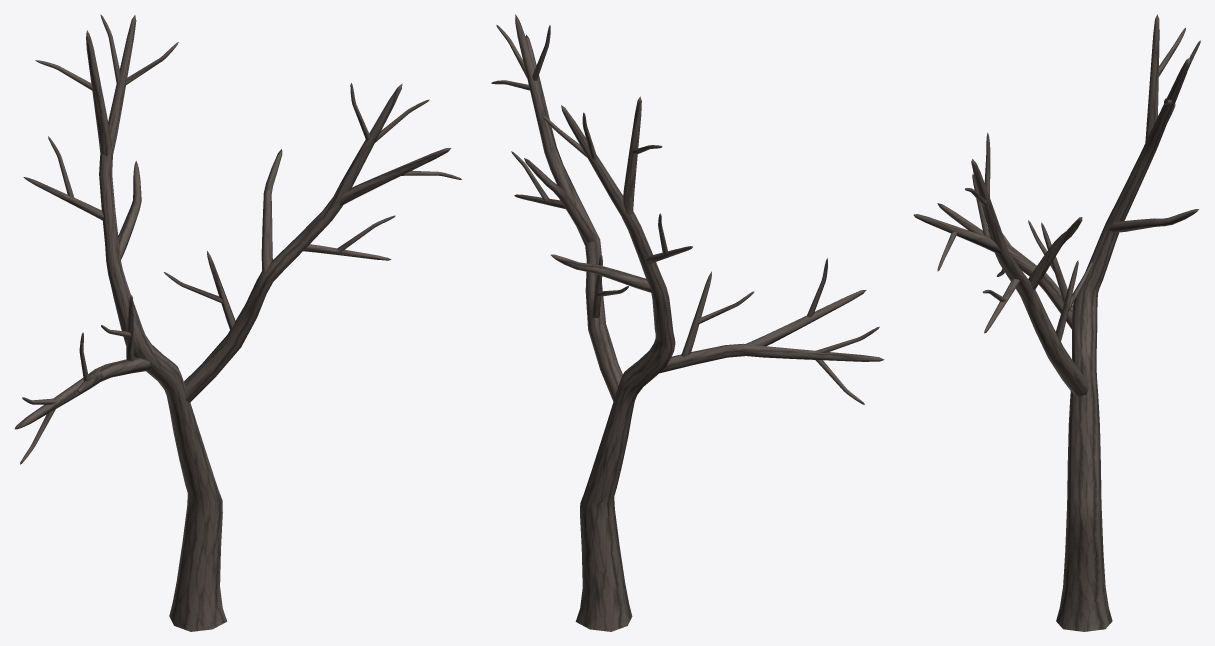
Rendered from DeadTree_10.gltf.
The picture shows the model from 3 angles, left to right: view 1: azimuth 30°, elevation 25°; view 2: azimuth 150°, elevation 25°; view 3: azimuth 270°, elevation 25°; orthographic projection. The views are drawn at different scales.
Parts seen in each view (by area): view 1: DeadTree_10; view 2: DeadTree_10; view 3: DeadTree_10.
Part boxes in pixels (left/top/right/bottom): DeadTree_10: left=15, top=14, right=461, bottom=631; DeadTree_10: left=491, top=14, right=884, bottom=631; DeadTree_10: left=913, top=14, right=1200, bottom=631.
Bounding box in the file's own units: 5.46 × 7.13 × 3.24.
Materials: 1 (1 with a texture image).
